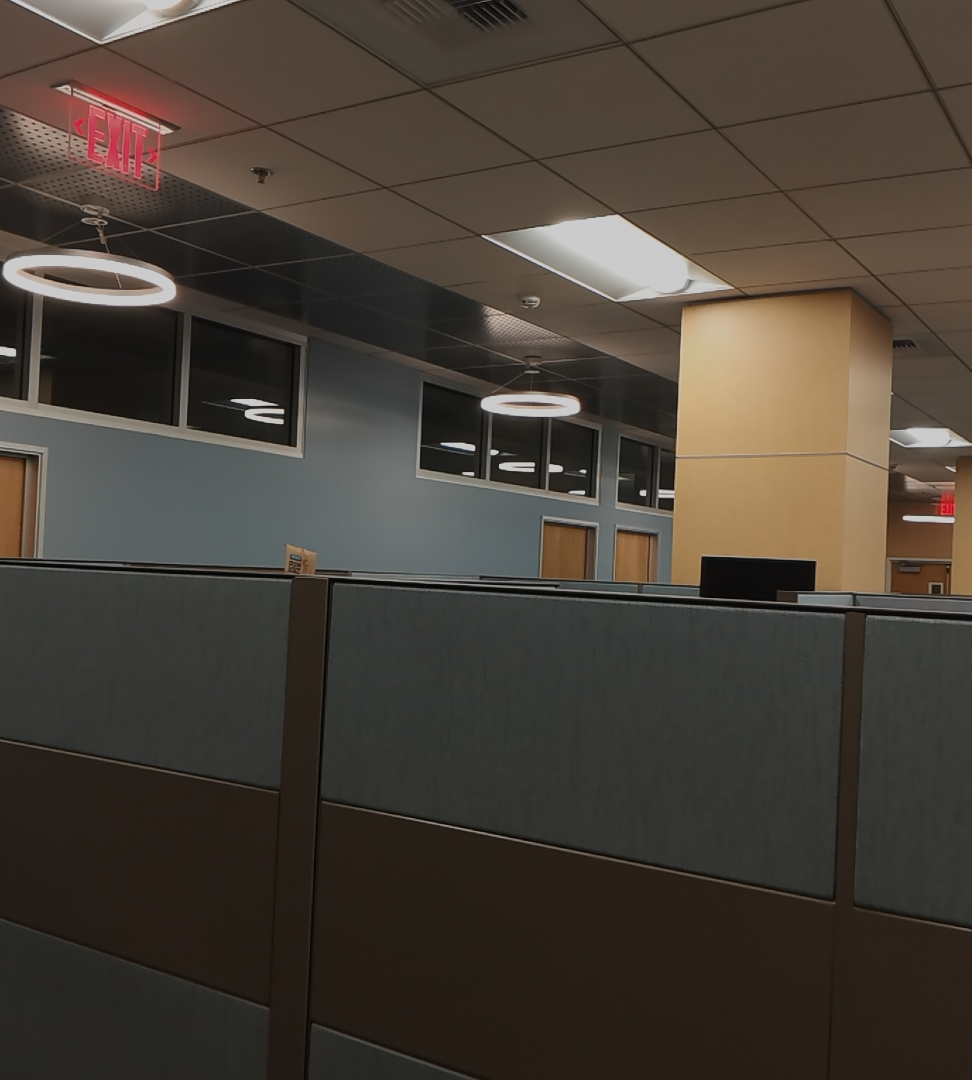emergency_exit: (51, 79, 180, 193)
